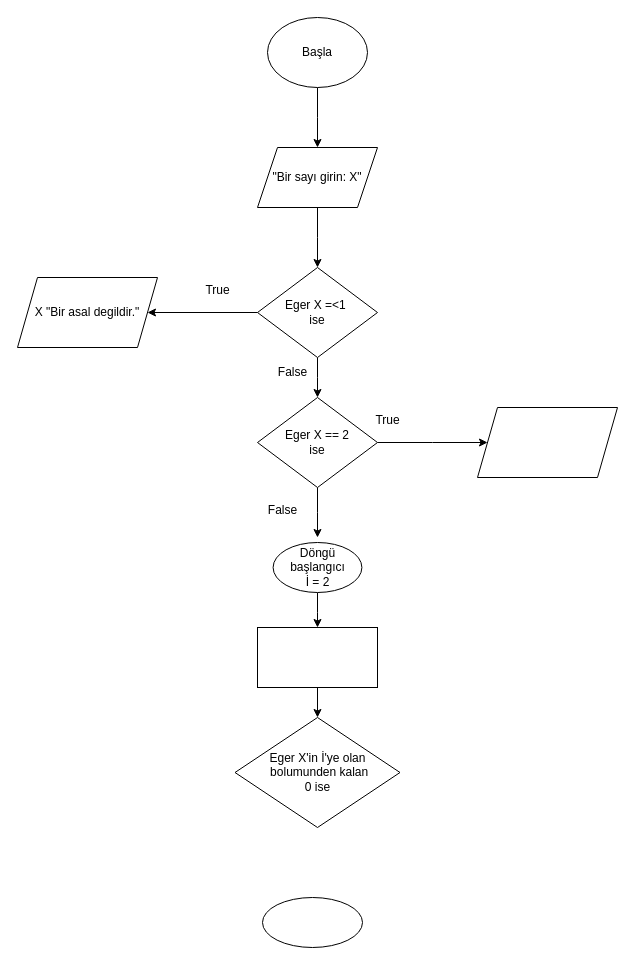
Some shapes in this 635 by 965 pixel diagram are drawn without their labels. The box of each missing label's shape, as (x1, y1, x2, y2) in pixels:
2'den X'e kadar olan her İ sayısı için(X dahil değil): (256, 626, 378, 688)
Bitir: (262, 896, 362, 948)
X "Bir asal sayıdır.": (476, 406, 618, 478)
